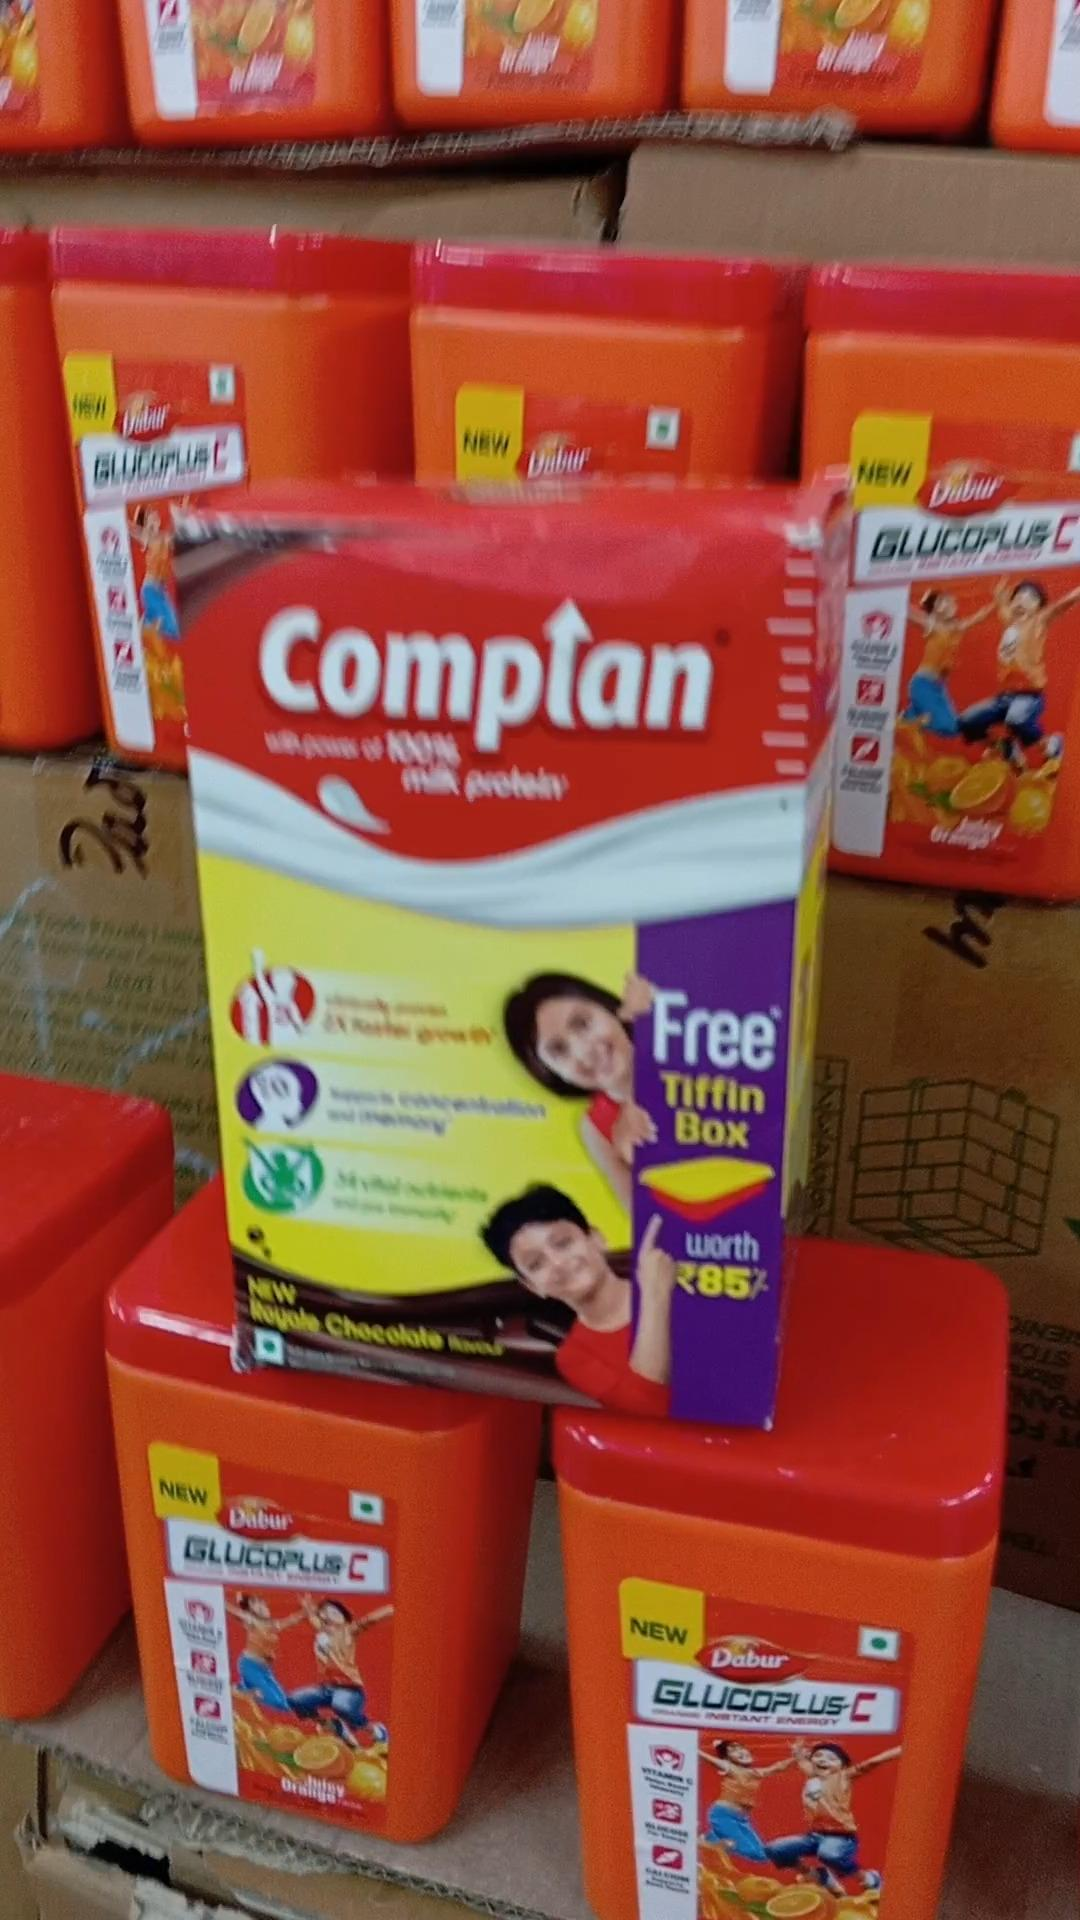COMPLAN_CHOCOLATE_500_GMS_PACK: (215, 505, 775, 1379)
